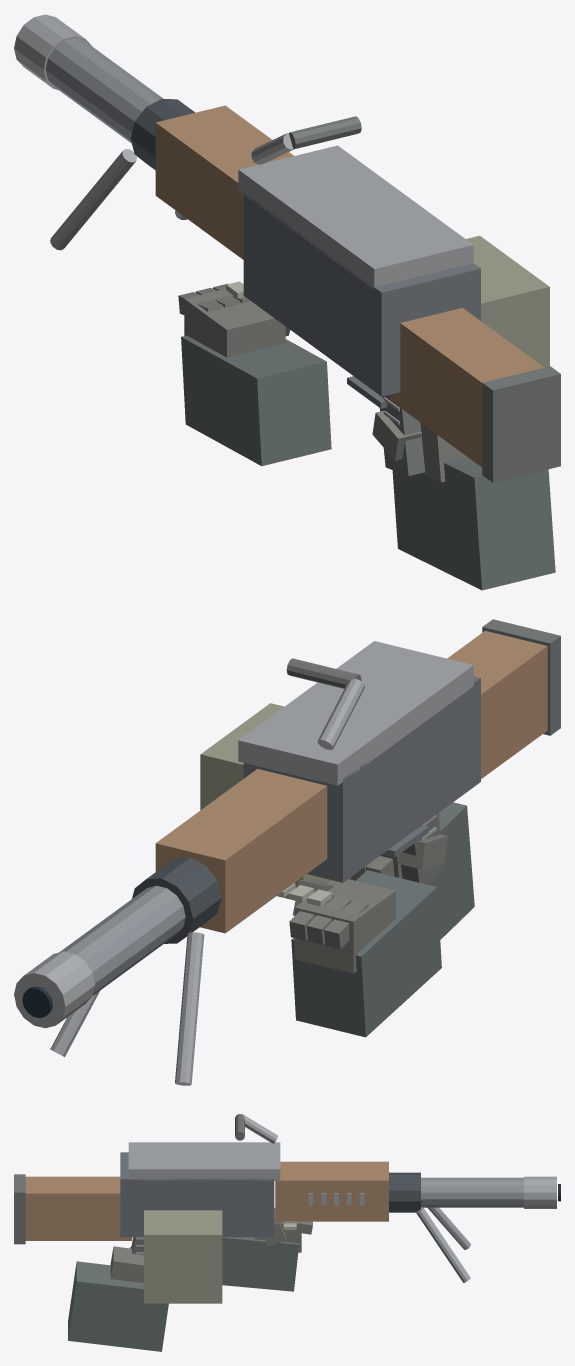
The model's file is pkm.glb.
3 views of the same model, one above another, from view 1: azimuth 30°, elevation 25°; view 2: azimuth 150°, elevation 25°; view 3: azimuth 270°, elevation 25° (orthographic). The views are drawn at different scales.
Visible parts, largest first — view 1: heavy_receiver_000, receiver_cover_001, sleeve_right_049, sleeve_left_047, heavy_buttstock_007, long_handguard_002, buttpad_008, belt_case_009, heavy_barrel_003, palm_left_048, flash_hider_005, bipod_leg_017 (+6 smaller); view 2: receiver_cover_001, heavy_receiver_000, long_handguard_002, sleeve_left_047, heavy_buttstock_007, heavy_barrel_003, palm_left_048, sleeve_right_049, flash_hider_005, heat_shield_004, belt_case_009, bipod_leg_017 (+9 smaller); view 3: belt_case_009, heavy_receiver_000, long_handguard_002, sleeve_right_049, heavy_buttstock_007, receiver_cover_001, sleeve_left_047, heavy_barrel_003, heat_shield_004, flash_hider_005, palm_right_050, buttpad_008 (+4 smaller).
Boxes of the visible parts, bbox=[...] form: heavy_receiver_000: bbox=[243, 192, 480, 396]; receiver_cover_001: bbox=[238, 145, 473, 289]; sleeve_right_049: bbox=[392, 457, 555, 590]; sleeve_left_047: bbox=[181, 335, 331, 466]; heavy_buttstock_007: bbox=[389, 308, 543, 467]; long_handguard_002: bbox=[155, 105, 293, 259]; buttpad_008: bbox=[482, 366, 560, 482]; belt_case_009: bbox=[466, 235, 549, 367]; heavy_barrel_003: bbox=[45, 38, 163, 142]; palm_left_048: bbox=[184, 289, 285, 357]; flash_hider_005: bbox=[14, 14, 92, 89]; bipod_leg_017: bbox=[50, 149, 136, 250]; receiver_cover_001: bbox=[238, 641, 473, 785]; heavy_receiver_000: bbox=[243, 676, 480, 882]; long_handguard_002: bbox=[155, 769, 327, 933]; sleeve_left_047: bbox=[291, 870, 441, 1037]; heavy_buttstock_007: bbox=[447, 630, 547, 778]; heavy_barrel_003: bbox=[59, 885, 185, 995]; palm_left_048: bbox=[294, 879, 395, 973]; sleeve_right_049: bbox=[394, 802, 474, 939]; flash_hider_005: bbox=[14, 951, 94, 1028]; heat_shield_004: bbox=[132, 857, 221, 943]; belt_case_009: bbox=[200, 703, 331, 900]; bipod_leg_017: bbox=[175, 932, 204, 1085]; belt_case_009: bbox=[144, 1210, 222, 1303]; heavy_receiver_000: bbox=[120, 1152, 274, 1237]; long_handguard_002: bbox=[275, 1161, 388, 1221]; sleeve_right_049: bbox=[68, 1261, 168, 1351]; heavy_buttstock_007: bbox=[25, 1176, 132, 1240]; receiver_cover_001: bbox=[128, 1142, 280, 1180]; sleeve_left_047: bbox=[222, 1237, 299, 1291]; heavy_barrel_003: bbox=[421, 1177, 523, 1207]; heat_shield_004: bbox=[389, 1172, 420, 1212]; flash_hider_005: bbox=[524, 1176, 556, 1208]; palm_right_050: bbox=[110, 1246, 143, 1282]; buttpad_008: bbox=[14, 1174, 25, 1244].
Bounding box in the file's own units: 0.625 × 0.9697 × 2.31.
